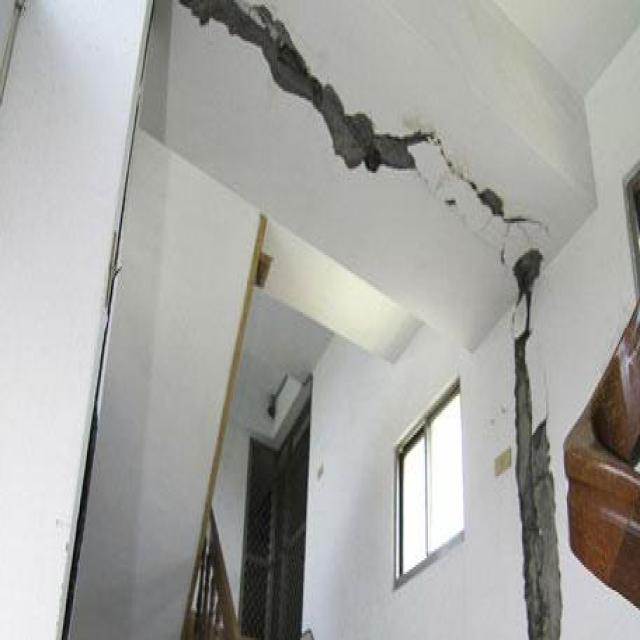damage: (174, 0, 421, 191), (497, 330, 590, 640), (426, 123, 560, 301)
